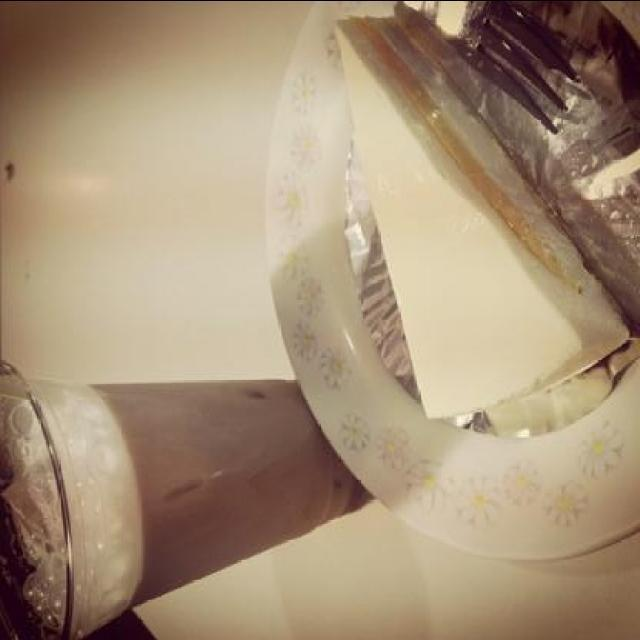Rare cheese cake: (309, 1, 633, 448)
